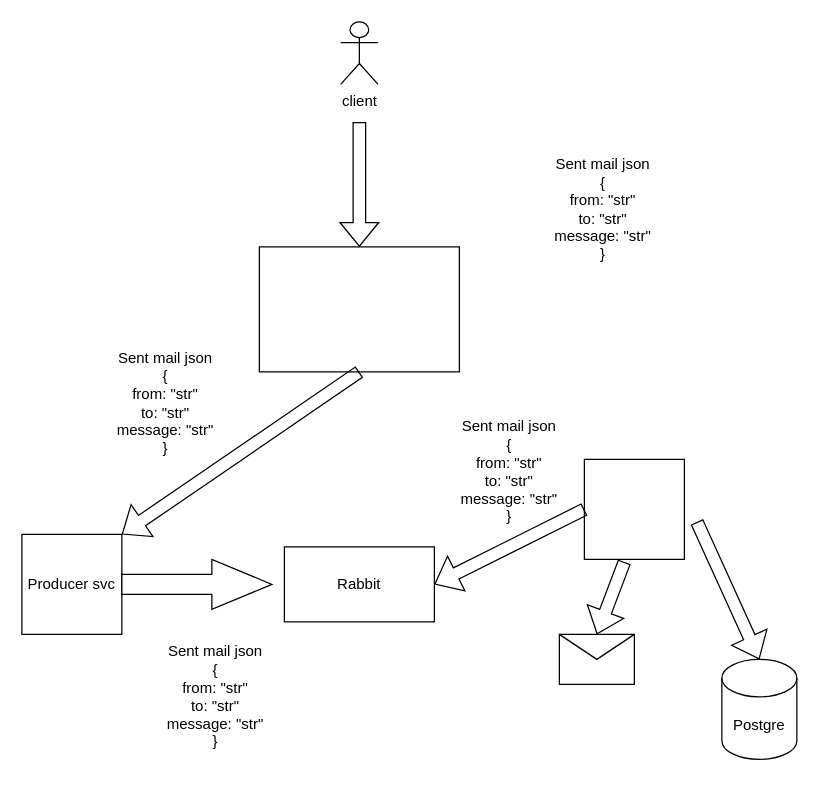
Some shapes in this 819 by 794 pixel diagram are drawn without their labels. Here are the shapes that lost their labels. From the top down, the centre of each, then its label:
the point at 358,309: GW Spring webflux
the point at 633,508: Consumer Svc
